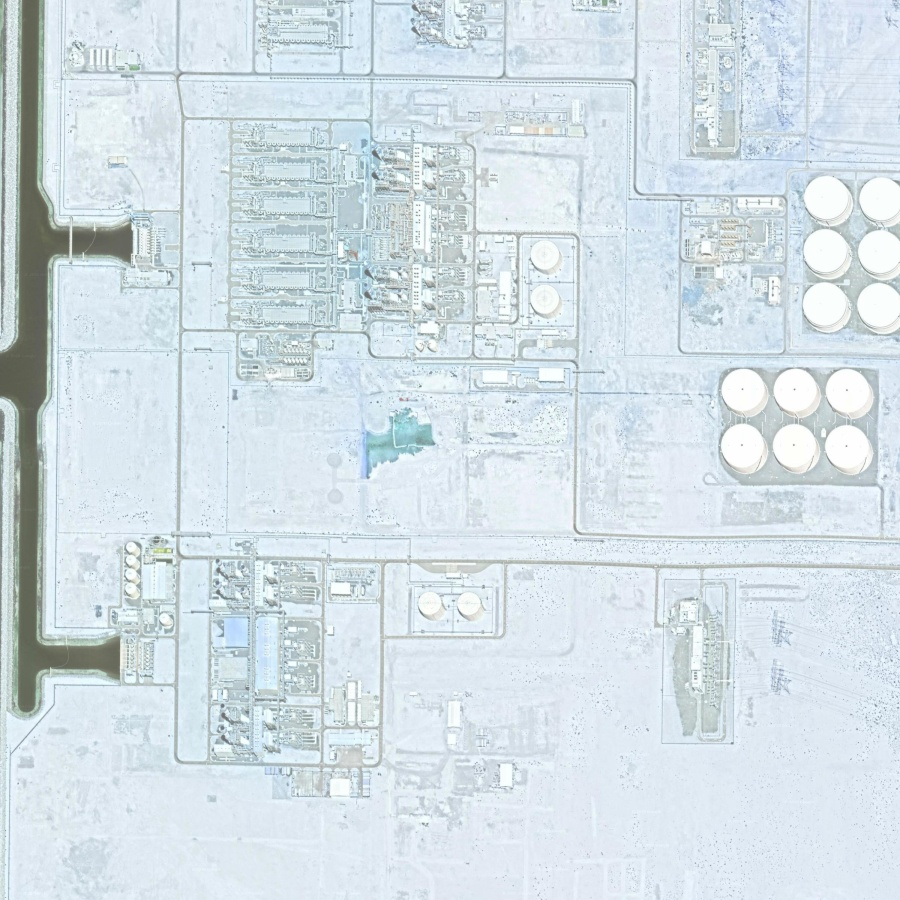PowerPlant: (113, 522, 527, 806), (214, 114, 576, 394)
